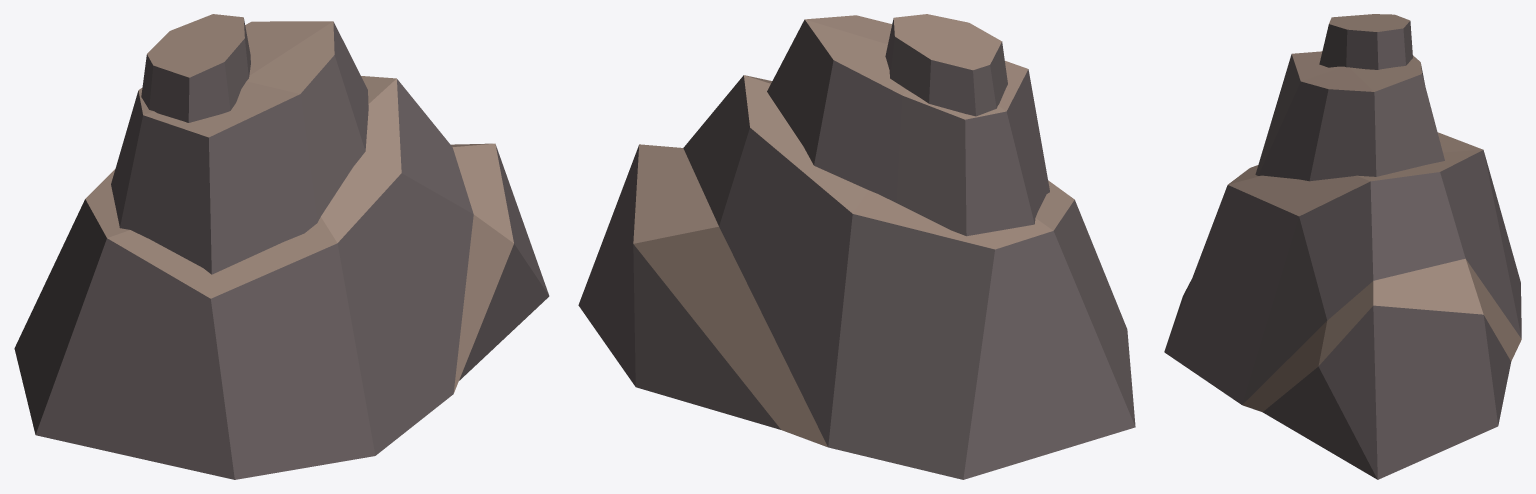
File: SM_L_Env_Mountain.fbx
3 views of the same model, side by side, from view 1: azimuth 30°, elevation 25°; view 2: azimuth 150°, elevation 25°; view 3: azimuth 270°, elevation 25° (orthographic). The views are drawn at different scales.
Visible parts, largest first — view 1: SM_L_Env_Mountain; view 2: SM_L_Env_Mountain; view 3: SM_L_Env_Mountain.
Part boxes in pixels (x1=…): SM_L_Env_Mountain: x1=14, y1=14, x2=549, y2=479; SM_L_Env_Mountain: x1=578, y1=14, x2=1135, y2=479; SM_L_Env_Mountain: x1=1164, y1=14, x2=1521, y2=479.
Bounding box in the file's own units: 8.37 × 5.36 × 5.52.
